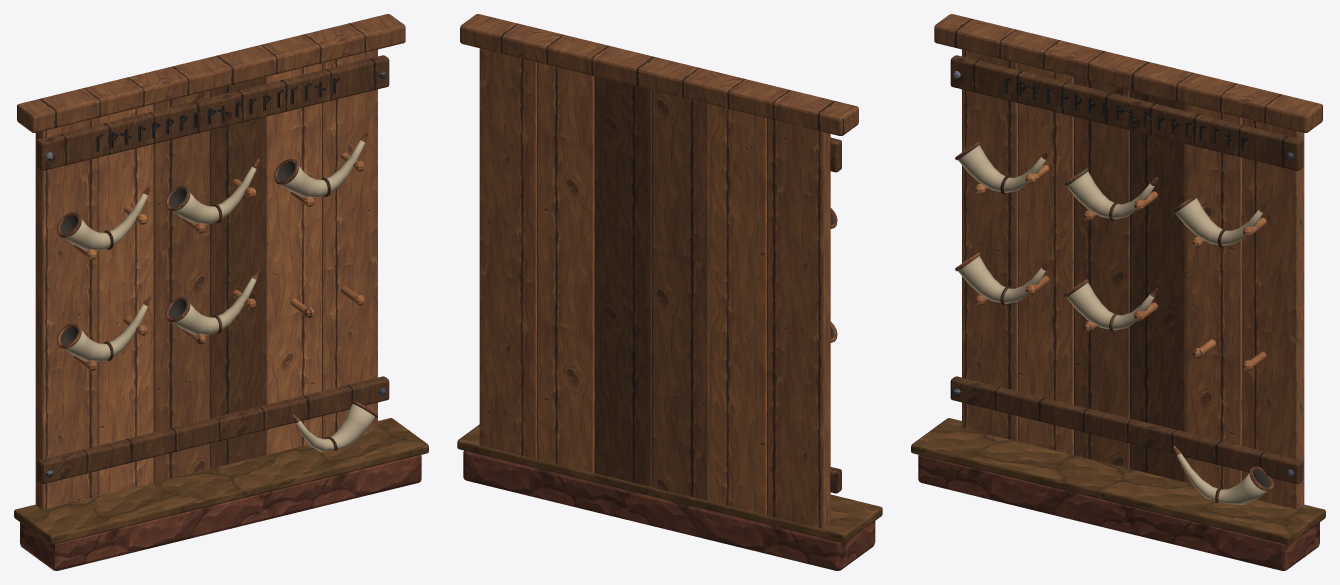
Rendered from rb_horn_wall.glb.
The picture shows the model from 3 angles, left to right: view 1: azimuth 30°, elevation 25°; view 2: azimuth 150°, elevation 25°; view 3: azimuth 330°, elevation 25°; orthographic projection. The views are drawn at different scales.
Visible parts, largest first — view 1: model; view 2: model; view 3: model.
Part boxes in pixels (x1,y1,x2,y2): model: [14, 14, 428, 570]; model: [457, 14, 882, 570]; model: [911, 14, 1325, 570].
Size of the model in its own units: 1.5 by 1.68 by 0.26.
12 materials, 9 textured.
